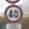limite 40: (3, 3, 22, 23)
